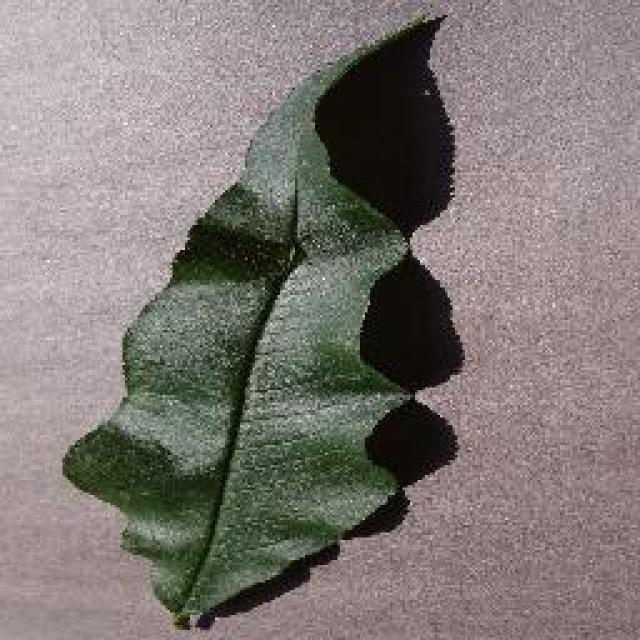Pea_healthy: (125, 55, 405, 550)
